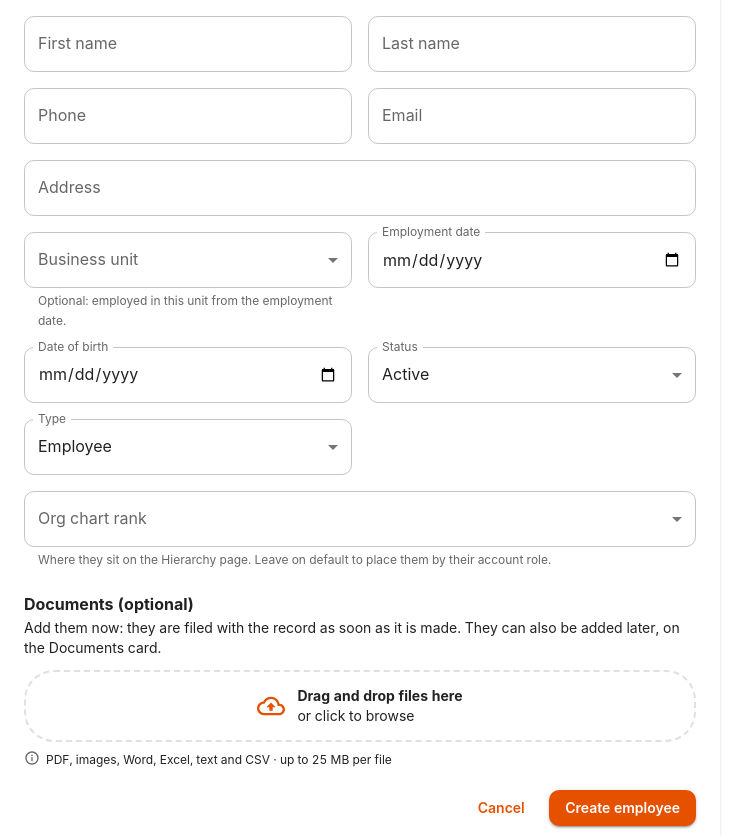
Test case: EmployeeFormPage › refuses to submit an empty form and sends nothing
This screenshot has width=738, height=836.
(page scrolled)
Step 1. Click the submit button → coordinates (623, 808), box [549,790,696,826]
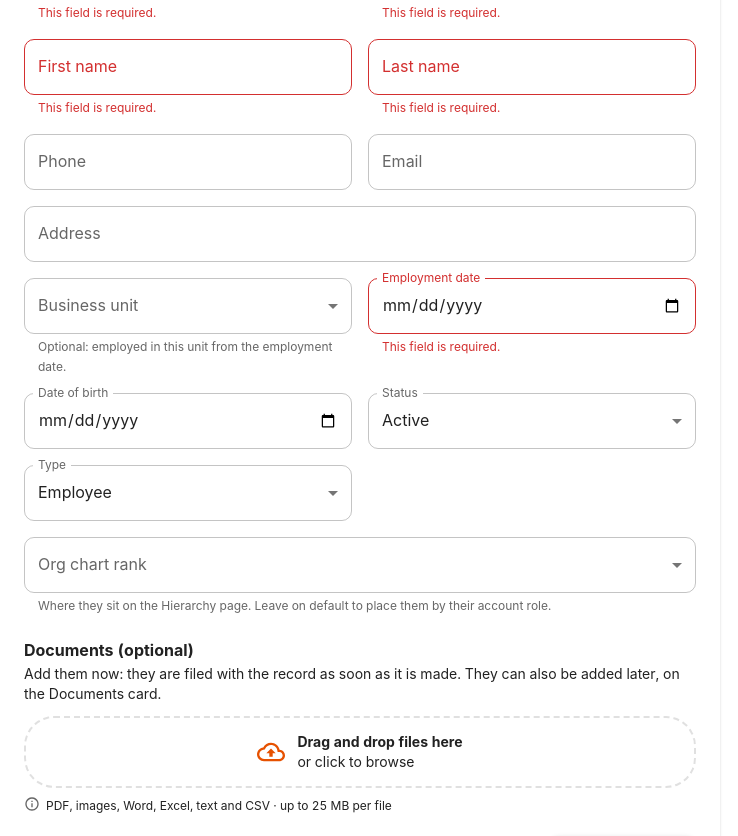
Result: the text "This field is required." below "Employee number" is shown at [38,5,156,20]
